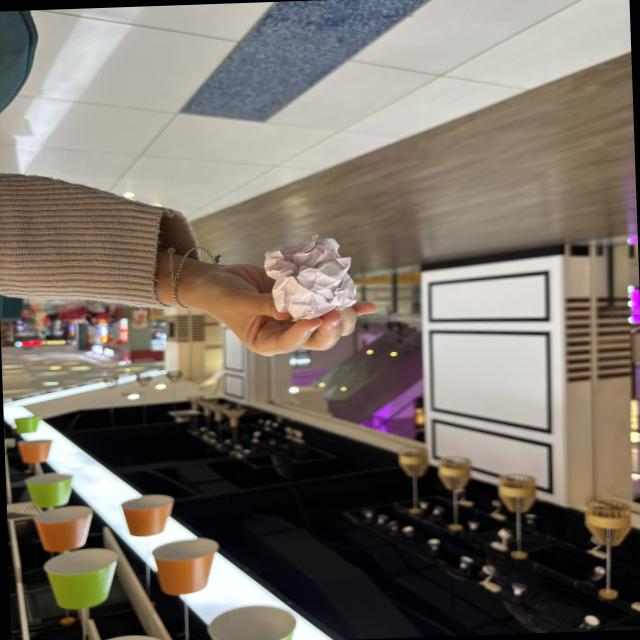crumpled_paper: (260, 230, 360, 324)
